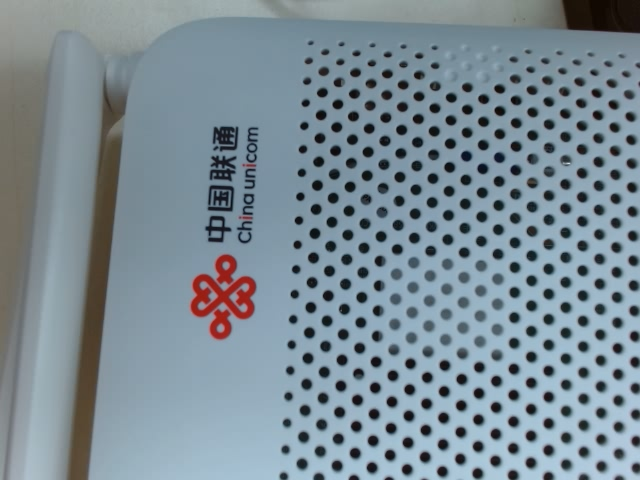AD_ChinaUnicom: (160, 91, 278, 349)
